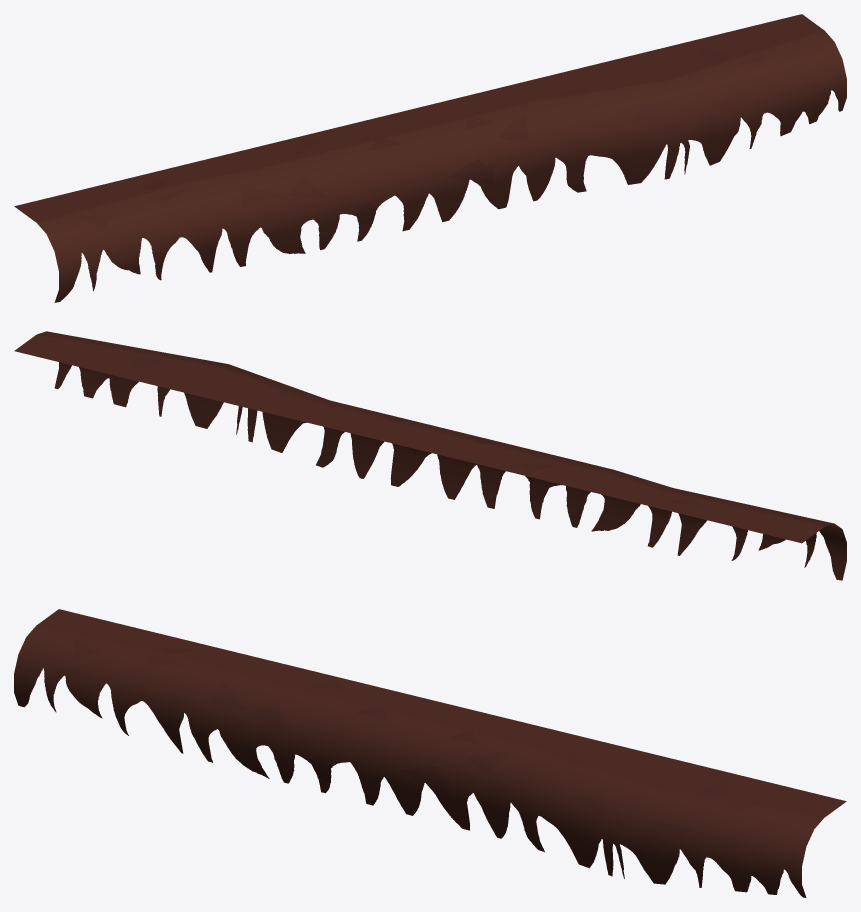
The model's file is Environment_Grass_Edge.fbx.
3 renders of one model, top to bottom at view 1: azimuth 30°, elevation 25°; view 2: azimuth 150°, elevation 25°; view 3: azimuth 330°, elevation 25°, orthographic.
Visible parts, largest first — view 1: pCylinder1; view 2: pCylinder1; view 3: pCylinder1.
Part boxes in pixels (x1=…): pCylinder1: x1=14, y1=14, x2=846, y2=302; pCylinder1: x1=14, y1=331, x2=846, y2=580; pCylinder1: x1=14, y1=609, x2=846, y2=897.
Size of the model in its own units: 20 by 2 by 2.5.
